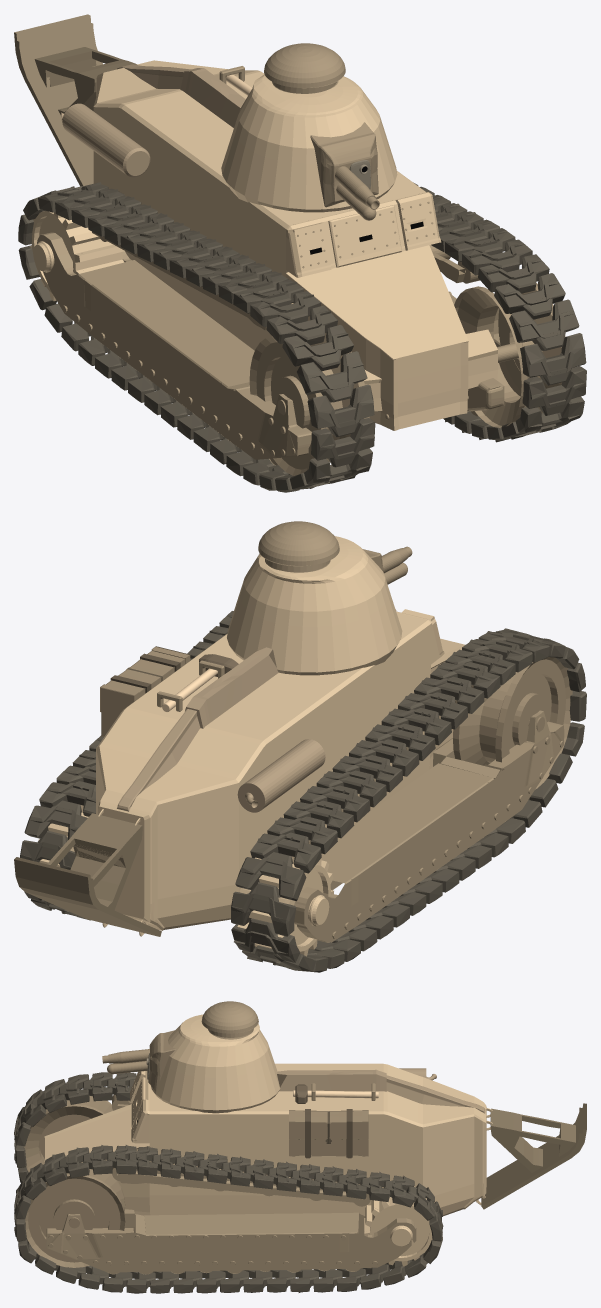
File: tank.glb
The picture shows the model from 3 angles, top to bottom: view 1: azimuth 30°, elevation 25°; view 2: azimuth 150°, elevation 25°; view 3: azimuth 270°, elevation 25°; orthographic projection. The views are drawn at different scales.
Visible parts, largest first — view 1: Tank thread, Tank chassis, Track roller armor plate, Sphere, Front Wheel, Tank chassis.001, ski board, Back Wheel, Manhole, Exhaust, Barrel, Ski holder 2 (+4 smaller); view 2: Tank chassis, Tank thread, Track roller armor plate, Sphere, Front Wheel, Ski holder 2, ski board, Manhole, Exhaust, skeleton 1, Back Wheel, skeleton 2 (+7 smaller); view 3: Tank chassis, Tank thread, Track roller armor plate, Sphere, Front Wheel, Ski holder 2, Toolbox, ski board, Back Wheel, Track Roller upper, skeleton 1, Manhole (+9 smaller).
Part boxes in pixels (x1,y1,x2,y2): Tank thread: (18, 182, 586, 492); Tank chassis: (93, 60, 497, 430); Track roller armor plate: (37, 232, 521, 459); Sphere: (221, 74, 397, 212); Front Wheel: (249, 283, 565, 475); Tank chassis.001: (286, 192, 441, 277); ski board: (14, 14, 102, 186); Back Wheel: (29, 211, 124, 301); Manhole: (264, 43, 345, 93); Exhaust: (61, 103, 150, 177); Barrel: (310, 122, 378, 207); Ski holder 2: (34, 47, 136, 114); Tank chassis: (96, 613, 465, 930); Tank thread: (20, 611, 586, 972); Track roller armor plate: (294, 710, 564, 942); Sphere: (227, 536, 402, 675); Front Wheel: (453, 657, 572, 789); Ski holder 2: (47, 813, 142, 910); ski board: (14, 857, 161, 936); Manhole: (258, 521, 339, 572); Exhaust: (237, 739, 325, 812); skeleton 1: (185, 647, 278, 728); Back Wheel: (38, 805, 333, 956); skeleton 2: (117, 709, 200, 811); Tank chassis: (44, 1063, 486, 1216); Tank thread: (14, 1072, 443, 1293); Track roller armor plate: (46, 1209, 416, 1272); Sphere: (151, 1014, 280, 1113); Front Wheel: (23, 1096, 125, 1267); Ski holder 2: (490, 1108, 575, 1172); Toolbox: (295, 1110, 362, 1156); ski board: (481, 1103, 586, 1209); Back Wheel: (364, 1186, 434, 1266); Track Roller upper: (112, 1095, 370, 1206); skeleton 1: (277, 1069, 386, 1091); Manhole: (201, 1001, 258, 1039).
Bounding box in the file's own units: 1.46 × 1.74 × 3.7.
